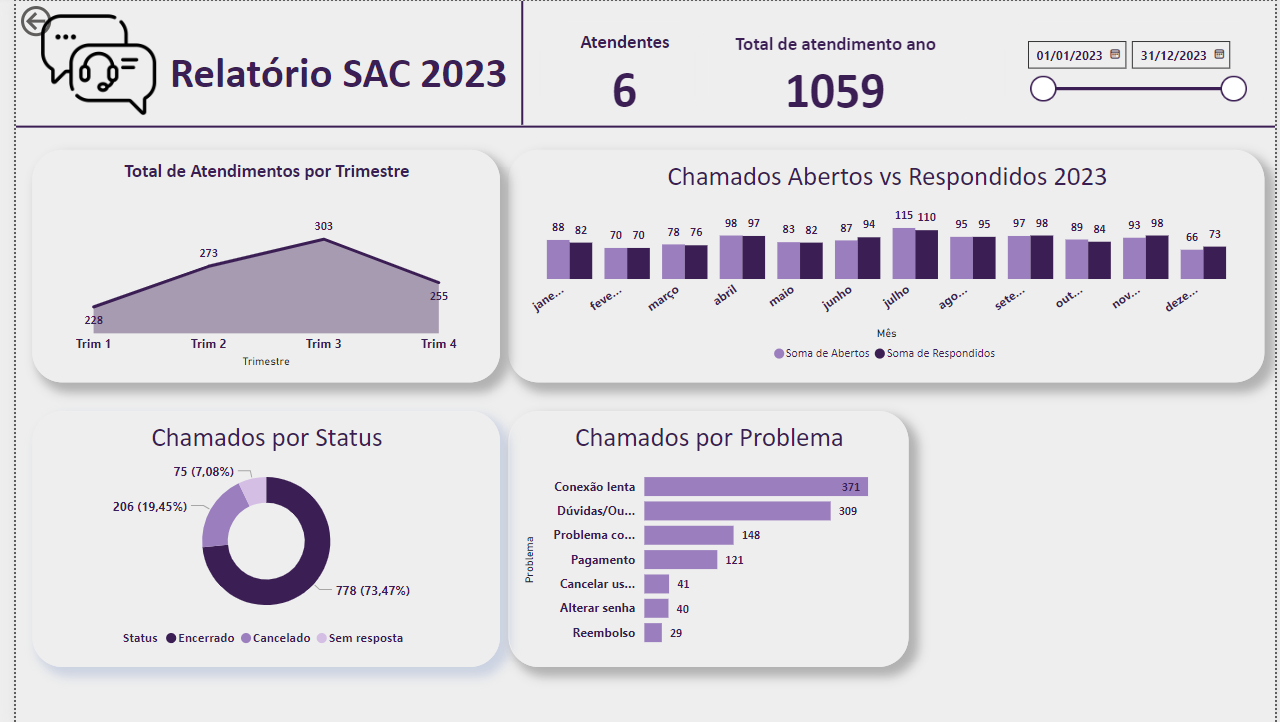

The page's visual inventory and layout, read from the dashboard file:
{"tool":"powerbi","page":{"name":"Página 1","canvas":[1252,719],"ordinal":0},"visuals":[{"type":"actionButton","box":[0,0,100,40],"z":0},{"type":"donutChart","title":"Chamados por Status","fields":{"Category":["Status chamados.Status"],"Y":["CountNonNull(Chamados.Status)"]},"box":[16.1,407.5,464.6,254.7],"z":1000},{"type":"card","title":"Atendentes","fields":{"Values":["Count(Chamados.Atendente)"]},"box":[520.5,19.9,167.7,104.3],"z":2000},{"type":"slicer","fields":{"Values":["Chamados.Data Chamado"]},"box":[982.6,19.9,258.4,104.3],"z":3000},{"type":"clusteredBarChart","title":"Chamados por Problema","fields":{"Category":["Chamados.Problema"],"Y":["CountNonNull(Chamados.Problema)"]},"box":[489.4,407.5,397.5,254.7],"z":4000},{"type":"clusteredColumnChart","title":"Chamados Abertos vs Respondidos 2023","fields":{"Category":["Chamados Respondidos x Abertos.Mês.Variation.Hierarquia de datas.Mês"],"Y":["Sum(Chamados Respondidos x Abertos.Abertos)","Sum(Chamados Respondidos x Abertos.Respondidos)"]},"box":[489.4,147.8,751.6,231.1],"z":5000},{"type":"card","title":"Total de atendimento ano","fields":{"Values":["Sum(Status chamados.Total)"]},"box":[674.5,21.1,278.3,104.3],"z":6000},{"type":"areaChart","title":"Total de Atendimentos por Trimestre","fields":{"Category":["Chamados.Data Resposta.Variation.Hierarquia de datas.Trimestre"],"Y":["CountNonNull(Chamados.Problema)"]},"box":[16.1,147.8,464.6,231.1],"z":8000},{"type":"image","box":[16.1,1.2,131.7,124.2],"z":9000},{"type":"textbox","box":[147.8,39.8,355.3,67.1],"z":10000},{"type":"shape","box":[0,110.6,1252.2,28.6],"z":11000},{"type":"shape","box":[480.7,0,44.7,123],"z":12000}]}

Visuals, with their boxes in screenshot pixels (x1, y1, x2, y2), scaled from the page's 1252x719 canvas onto the 1280x722 screenshot:
actionButton: select_region(0, 0, 102, 40)
"Chamados por Status" donutChart: select_region(16, 409, 491, 665)
"Atendentes" card: select_region(532, 20, 704, 125)
slicer - Chamados.Data Chamado: select_region(1005, 20, 1269, 125)
"Chamados por Problema" clusteredBarChart: select_region(500, 409, 907, 665)
"Chamados Abertos vs Respondidos 2023" clusteredColumnChart: select_region(500, 148, 1269, 380)
"Total de atendimento ano" card: select_region(690, 21, 974, 126)
"Total de Atendimentos por Trimestre" areaChart: select_region(16, 148, 491, 380)
image: select_region(16, 1, 151, 126)
textbox: select_region(151, 40, 514, 107)
shape: select_region(0, 111, 1279, 140)
shape: select_region(491, 0, 537, 124)
